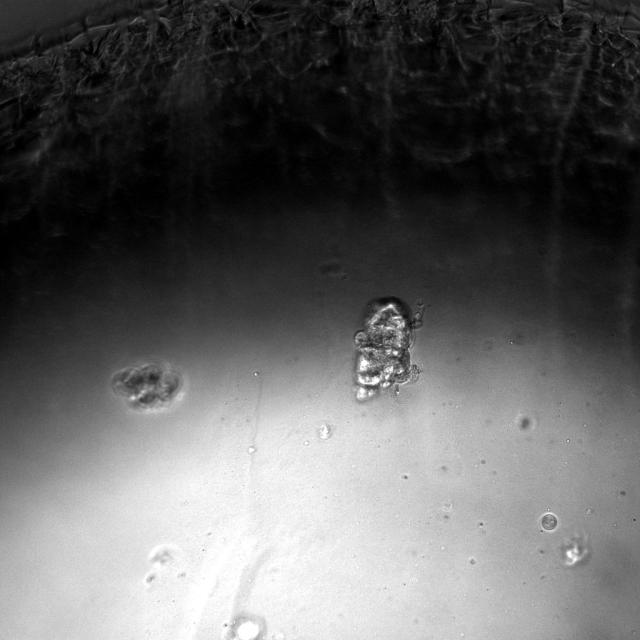organoid: (354, 297, 421, 401), (111, 363, 182, 411), (541, 514, 558, 530)
